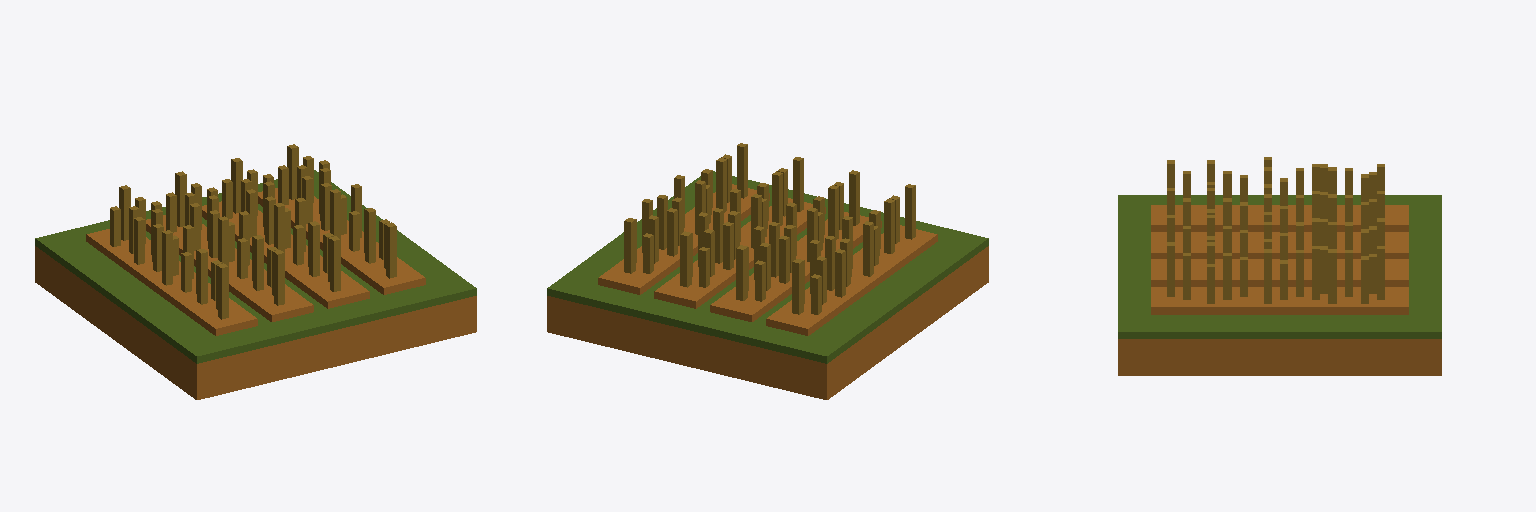
The picture shows the model from 3 angles: view 1: azimuth 30°, elevation 25°; view 2: azimuth 150°, elevation 25°; view 3: azimuth 270°, elevation 25°; orthographic projection.
Visible parts, largest first — view 1: object 1; view 2: object 1; view 3: object 1.
Boxes of the visible parts, <box> form: object 1: <box>35,144,476,399</box>; object 1: <box>547,143,988,399</box>; object 1: <box>1118,157,1441,375</box>.
Bounding box in the file's own units: 4 × 1.4 × 4.
1 materials, 1 textured.